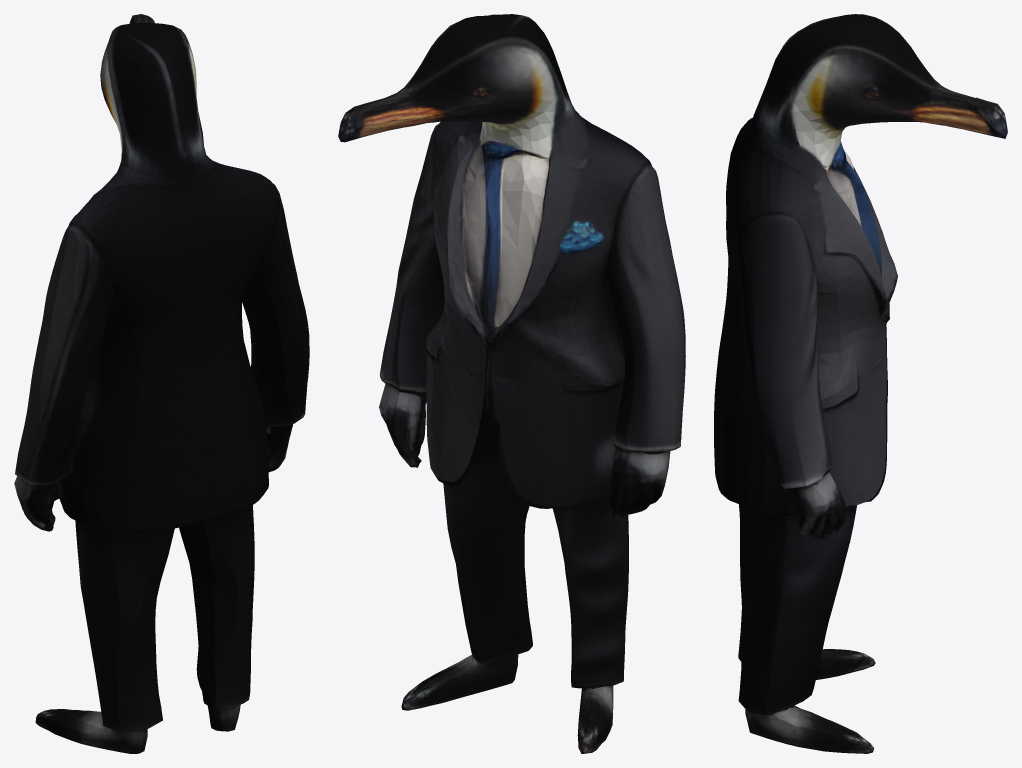
3 views of the same model, side by side, from view 1: azimuth 30°, elevation 25°; view 2: azimuth 150°, elevation 25°; view 3: azimuth 270°, elevation 25° (orthographic). The views are drawn at different scales.
Parts seen in each view (by area): view 1: world; view 2: world; view 3: world.
Boxes of the visible parts, left/top/right/bottom form: world: left=14, top=14, right=309, bottom=753; world: left=338, top=14, right=685, bottom=753; world: left=714, top=14, right=1007, bottom=753.
Bounding box in the file's own units: 0.4428 × 1 × 0.3864.
Materials: 1 (1 with a texture image).
